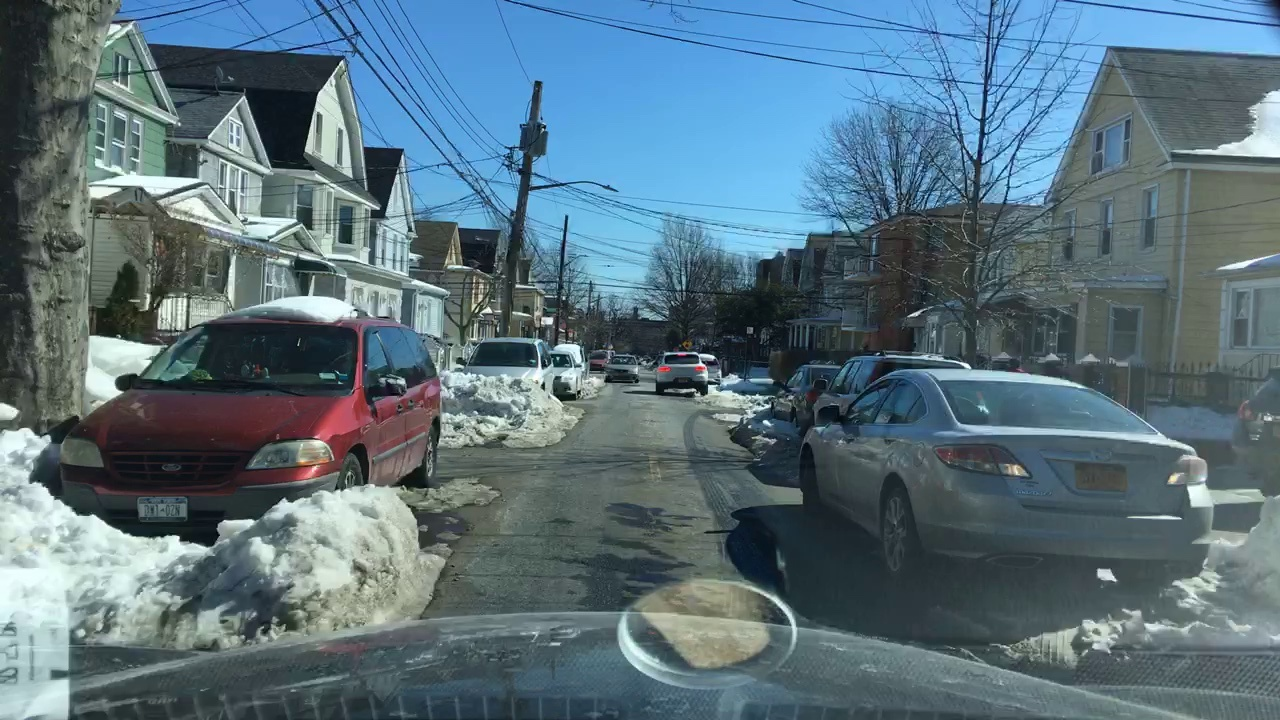car: (57, 289, 450, 541), (798, 365, 1215, 598), (457, 335, 555, 405), (769, 367, 836, 421), (655, 351, 712, 398), (605, 352, 640, 382)
